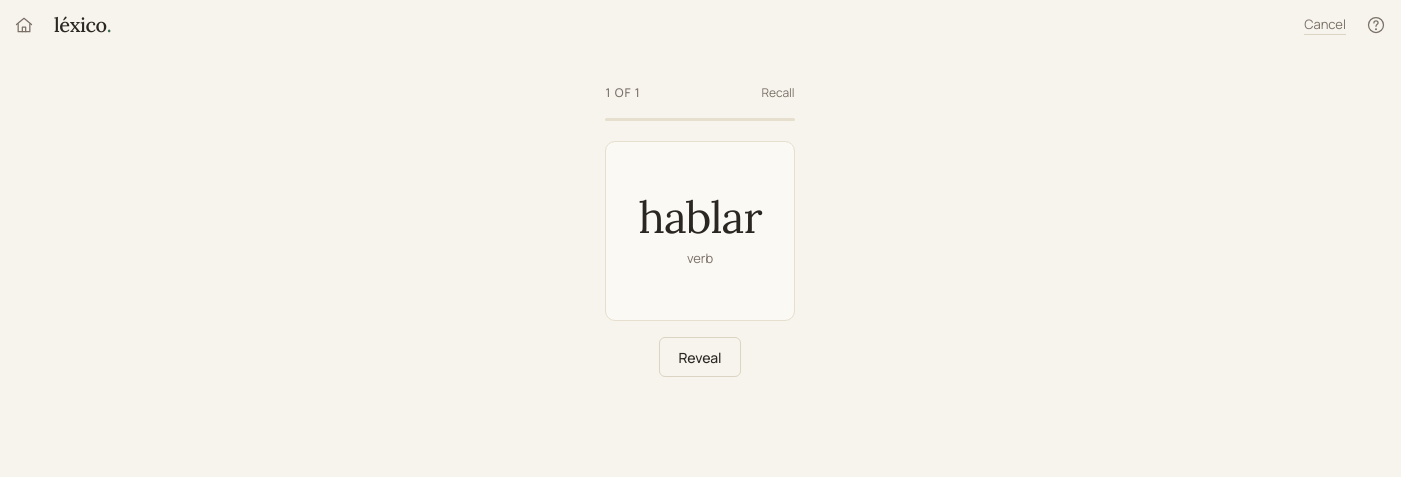
Test case: VocabSessionScreen › self-rated card › shows translation after reveal
Check: the text "hablar" is shown, box left=638, top=193, right=762, bottom=241
Click the button "Reveal": [700, 357] box left=660, top=337, right=741, bottom=377
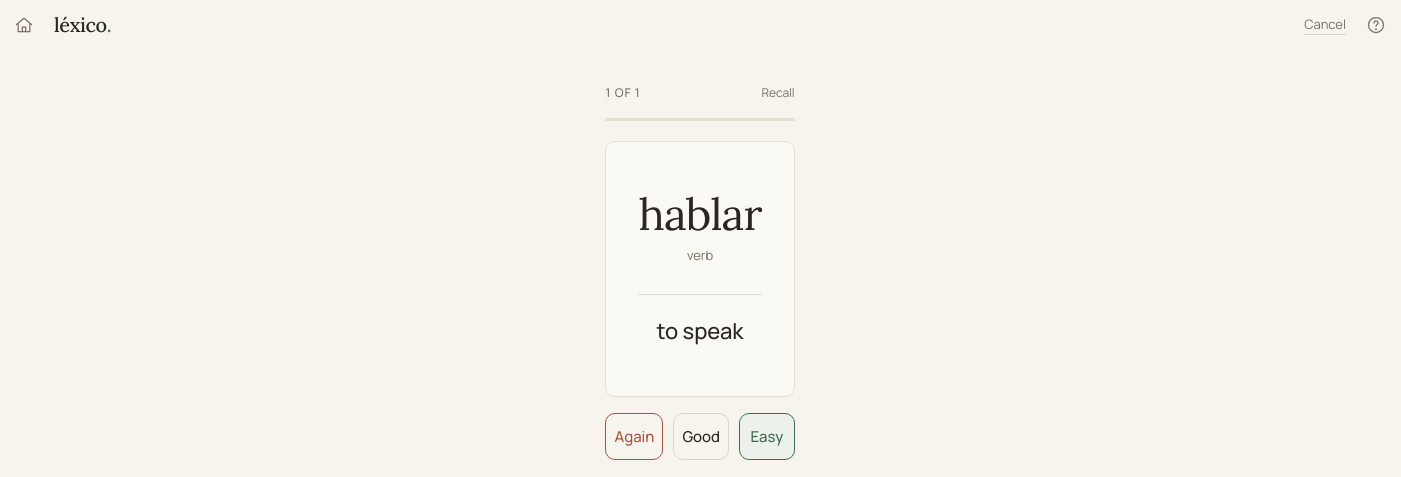
Check: the text "to speak" is shown, box left=657, top=316, right=743, bottom=346
